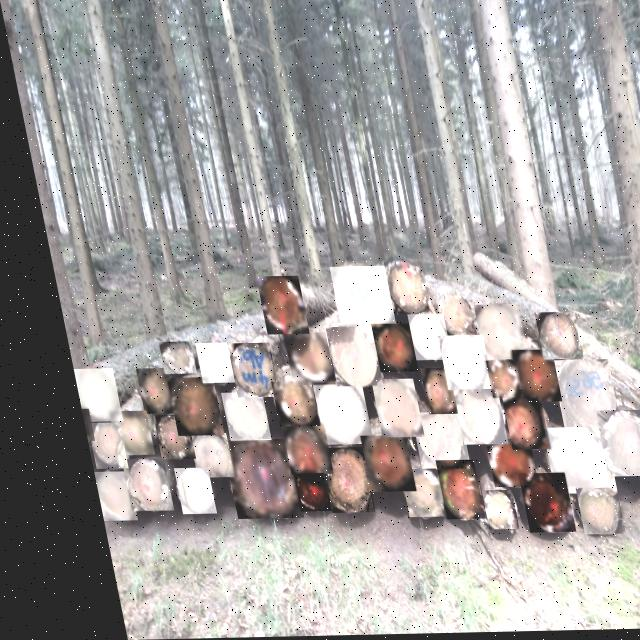wood-log: (204, 440, 283, 520), (536, 362, 605, 441), (524, 429, 597, 496), (318, 267, 383, 332), (578, 412, 640, 479), (296, 382, 355, 446), (301, 448, 356, 514), (394, 413, 452, 471), (498, 475, 554, 535), (312, 328, 367, 388), (151, 378, 206, 436), (342, 436, 396, 493), (244, 277, 296, 336), (355, 380, 406, 439), (461, 306, 514, 362), (424, 337, 477, 392), (438, 391, 490, 446), (417, 461, 464, 521), (213, 344, 263, 398), (103, 459, 153, 511), (270, 334, 320, 386), (58, 368, 106, 422), (467, 440, 519, 489), (498, 352, 546, 404), (486, 398, 532, 452), (264, 427, 314, 476), (373, 263, 419, 315), (205, 393, 253, 442), (555, 490, 603, 537), (522, 314, 569, 362), (357, 325, 403, 374), (255, 382, 302, 428), (380, 470, 424, 519), (75, 471, 117, 521), (394, 315, 437, 362), (171, 434, 215, 479), (92, 411, 136, 456), (154, 468, 196, 515), (405, 370, 446, 416), (136, 415, 177, 460), (70, 422, 109, 469), (121, 368, 160, 414), (181, 343, 219, 384), (274, 474, 311, 512), (461, 492, 497, 531), (471, 362, 507, 400), (144, 342, 182, 374), (631, 455, 640, 527), (65, 409, 77, 441)
